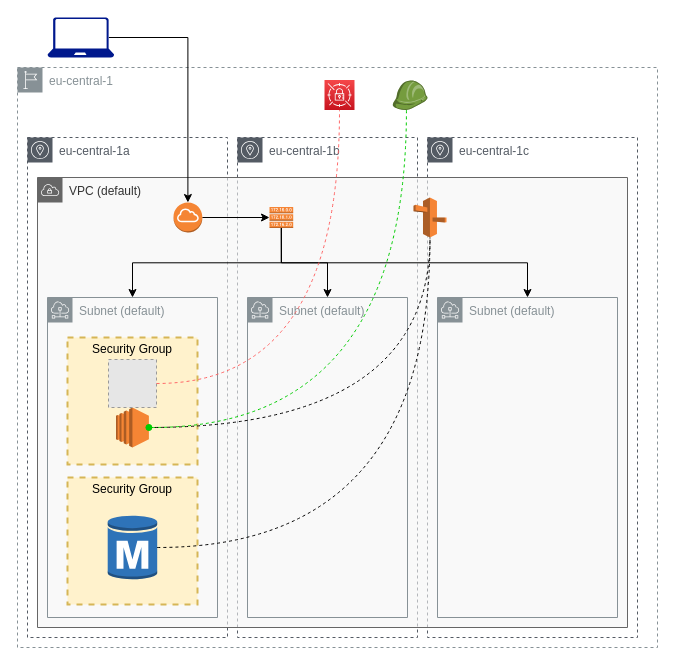
Some shapes in this 675 by 665 pixel diagram are drawn without their labels. Grey dashed boxes stand in for pictures. Here are the shapes that lost their labels. From the top down, the centre of each, then its label:
At (339,94): "db secrets".
At (409,95): "IAM role".
At (187,217): "Internet gateway".
At (280,217): "Route table public".
At (429,217): "Route 53".
